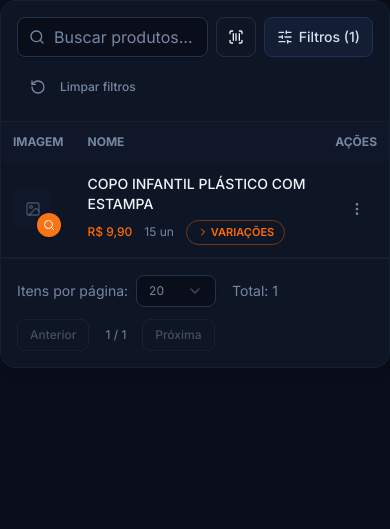
Test: ProductTable — variações aninhadas › o rótulo VARIAÇÕES abre a lista embaixo da linha, somente leitura
This screenshot has width=390, height=529.
Click the button "Variações": (236, 232) [186,220,285,245]
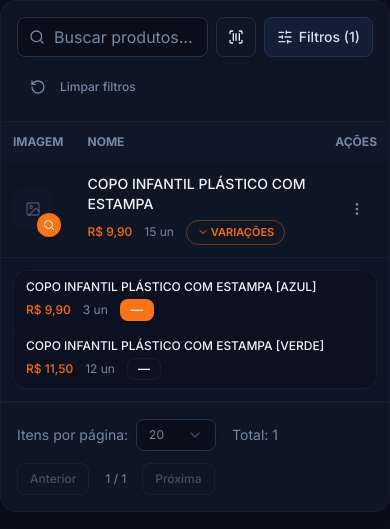
Now the text "COPO INFANTIL PLÁSTICO COM ESTAMPA [AZUL]" is shown 2 times
Now the text "COPO INFANTIL PLÁSTICO COM ESTAMPA [VERDE]" is shown 2 times
Now the text "15 un" is shown 2 times
